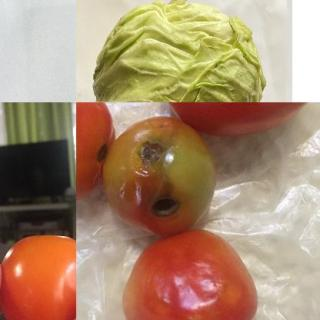Tomat: (77, 103, 299, 320), (1, 229, 78, 320)
